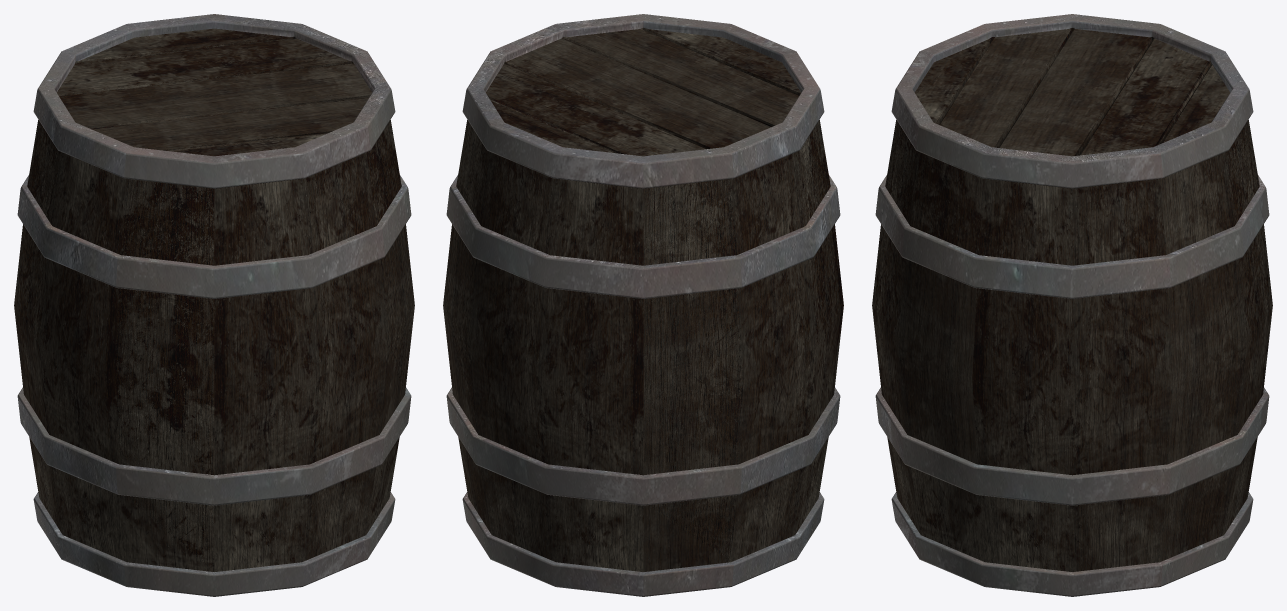
File: Barrel.fbx
3 renders of one model, left to right at view 1: azimuth 30°, elevation 25°; view 2: azimuth 150°, elevation 25°; view 3: azimuth 270°, elevation 25°, orthographic.
Visible parts, largest first — view 1: Barrel; view 2: Barrel; view 3: Barrel.
Part boxes in pixels (bbox=[...]): Barrel: bbox=[14, 14, 414, 596]; Barrel: bbox=[443, 14, 843, 596]; Barrel: bbox=[872, 14, 1272, 596].
Size of the model in its own units: 89.43 by 107 by 89.43.
